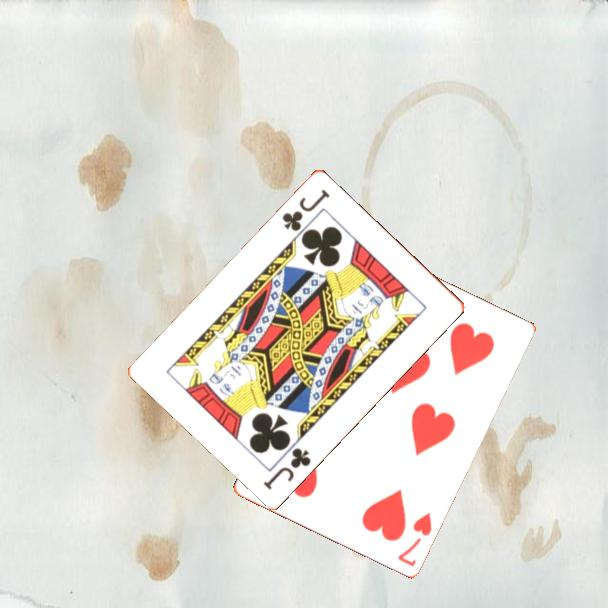c11: (279, 185, 333, 234), (259, 444, 314, 492)
h07: (394, 508, 434, 569)
